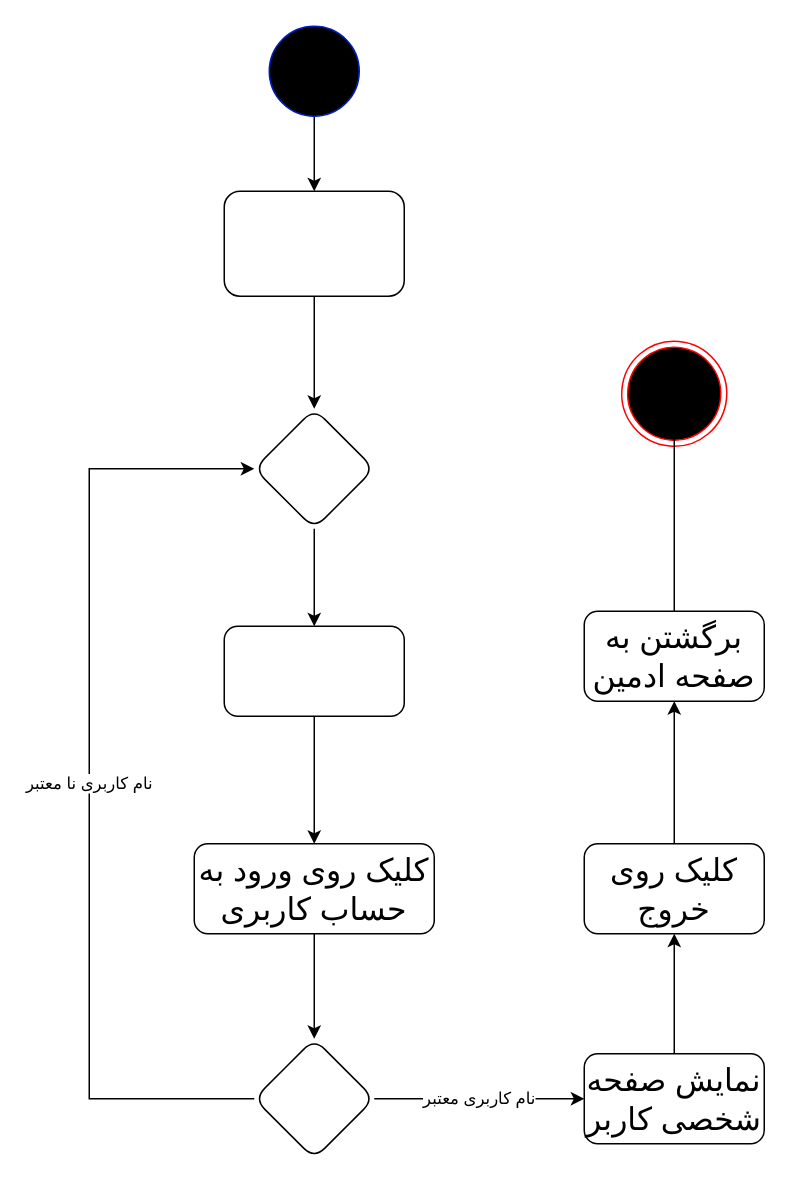
Image size: 791x1185. Some labels were removed from this diagram. Here are the shapes that lost their labels. From the top down, the centre of each, then its label:
At pixel 313 243: "کلیک روی ورود به حساب های دیگر".
At pixel 313 670: "وارد کردن نام کاربری".
